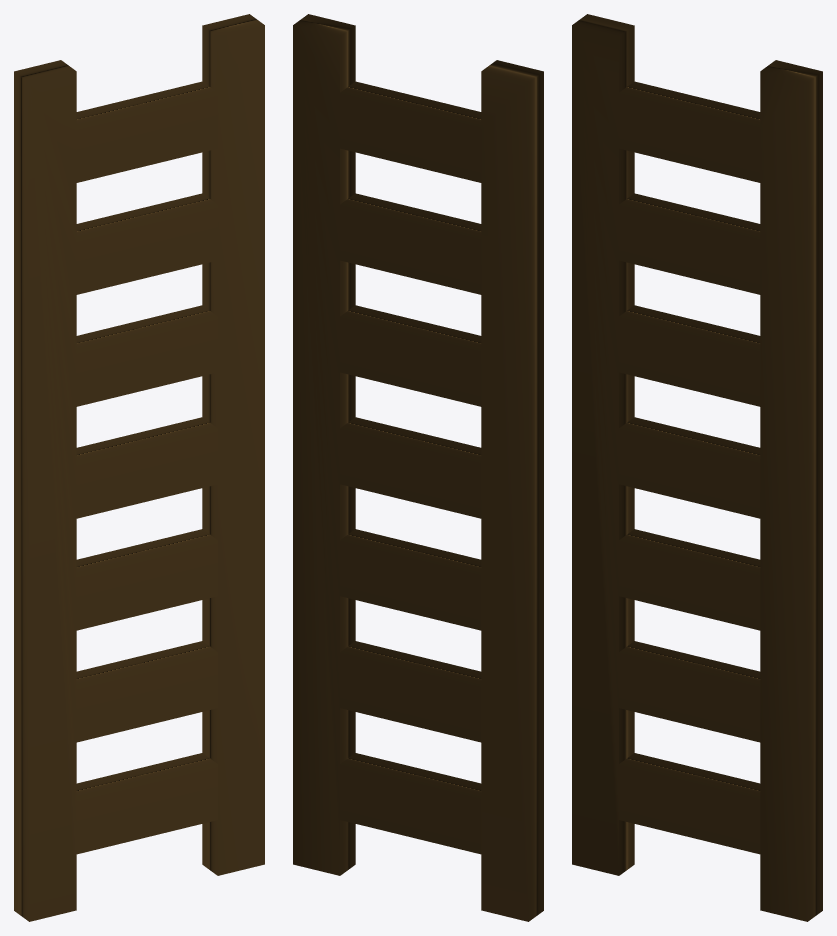
Rendered from Leiter_New.fbx.
The picture shows the model from 3 angles, left to right: view 1: azimuth 30°, elevation 25°; view 2: azimuth 150°, elevation 25°; view 3: azimuth 330°, elevation 25°; orthographic projection.
Visible parts, largest first — view 1: Leiter; view 2: Leiter; view 3: Leiter.
Part boxes in pixels (bbox=[...]): Leiter: bbox=[14, 14, 264, 921]; Leiter: bbox=[293, 14, 543, 921]; Leiter: bbox=[572, 14, 822, 921].
Bounding box in the file's own units: 62.17 × 212 × 7.02.
